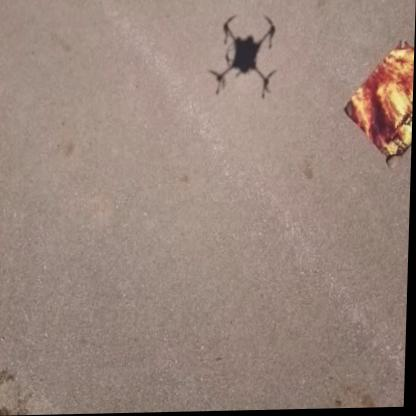fire-poster: (343, 39, 415, 171)
